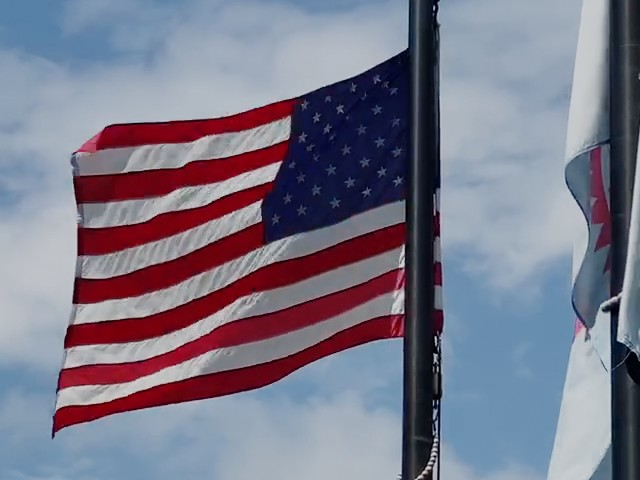America flag: (49, 48, 408, 441)
